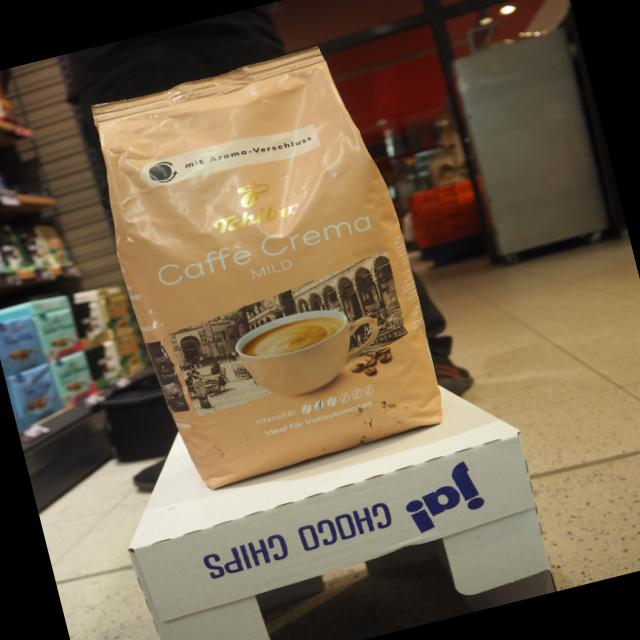CC Mild: (70, 32, 458, 504)
